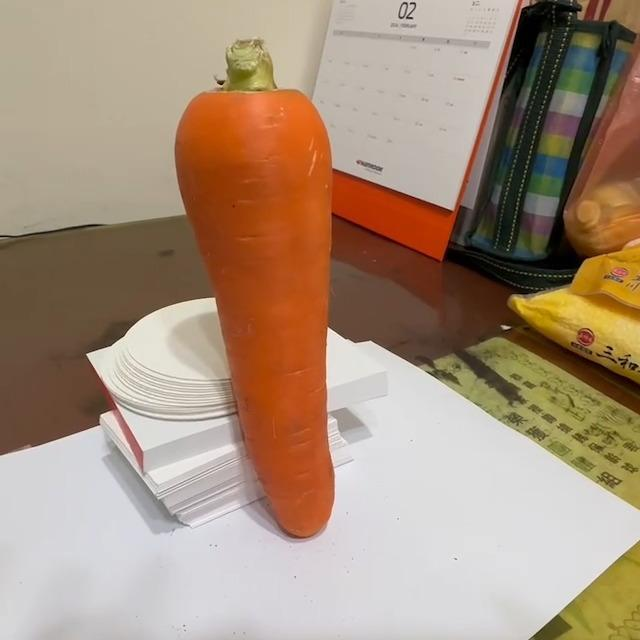carrot: (173, 40, 345, 541)
